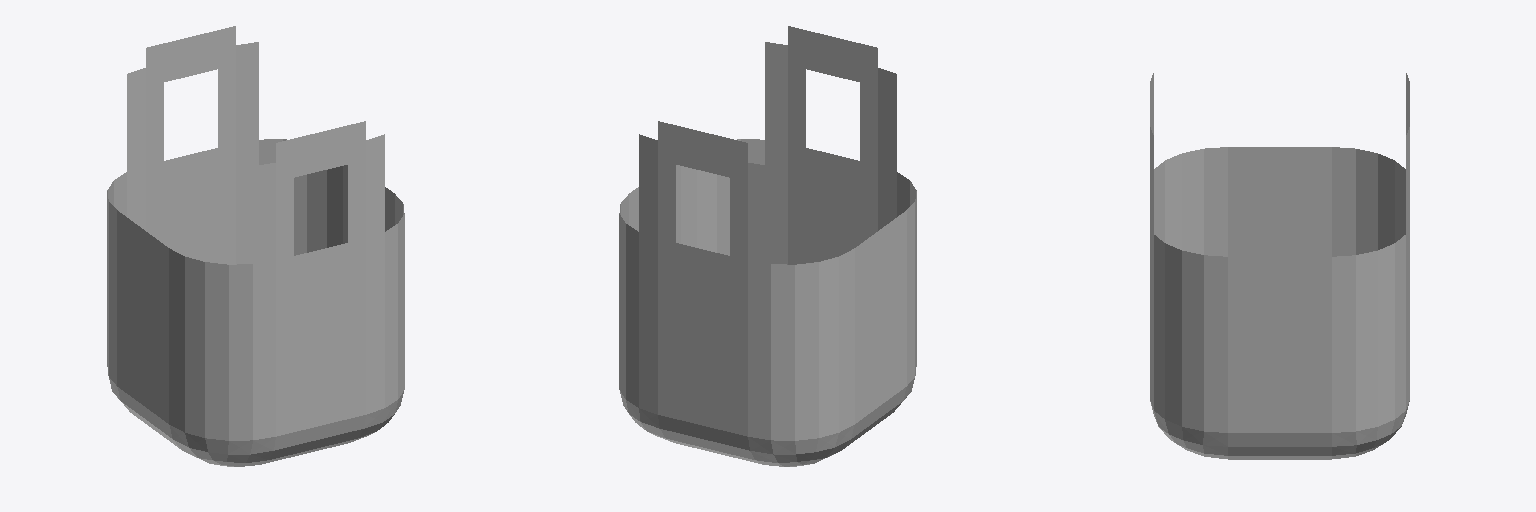
File: bag1_18.obj
The picture shows the model from 3 angles: view 1: azimuth 30°, elevation 25°; view 2: azimuth 150°, elevation 25°; view 3: azimuth 270°, elevation 25°; orthographic projection.
Visible parts, largest first — view 1: Cube-0-1.036_Cube.151; view 2: Cube-0-1.036_Cube.151; view 3: Cube-0-1.036_Cube.151.
Part boxes in pixels (x1,y1,x2,y2): Cube-0-1.036_Cube.151: (107, 26, 404, 466); Cube-0-1.036_Cube.151: (619, 26, 916, 466); Cube-0-1.036_Cube.151: (1150, 73, 1409, 459).
Size of the model in its own units: 2 by 2.91 by 2.